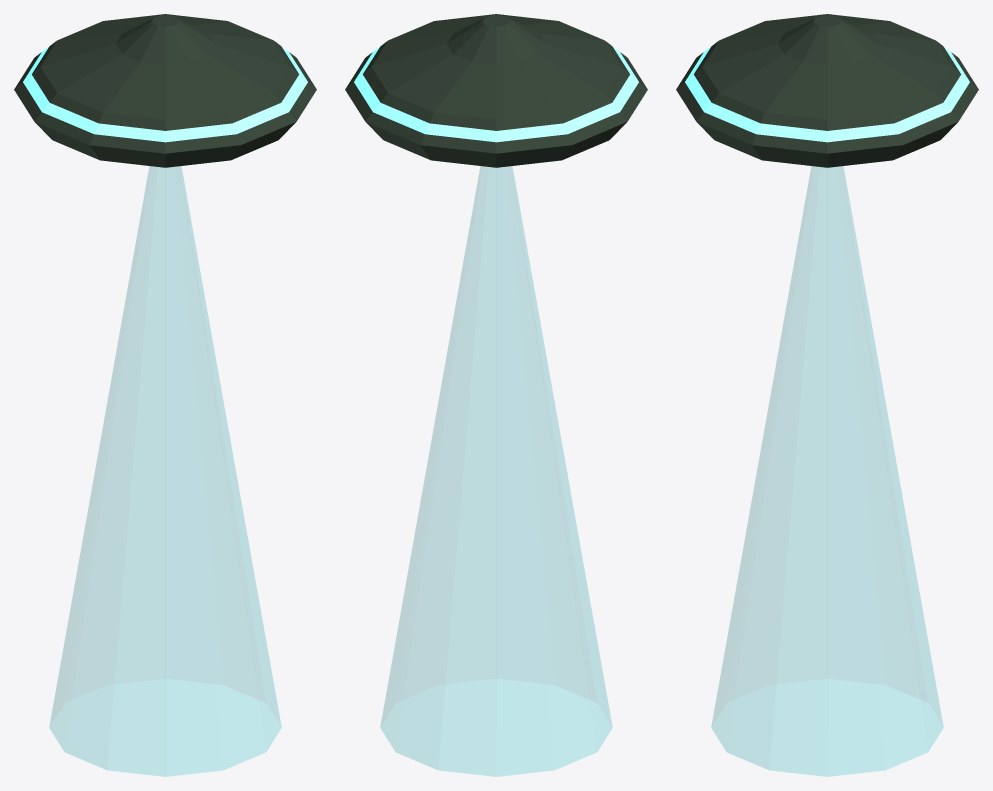
The model's file is ufo.glb.
3 views of the same model, side by side, from view 1: azimuth 30°, elevation 25°; view 2: azimuth 150°, elevation 25°; view 3: azimuth 270°, elevation 25° (orthographic).
Visible parts, largest first — view 1: Cube; view 2: Cube; view 3: Cube.
Part boxes in pixels (x1,y1,x2,y2): Cube: (14,14,316,776); Cube: (345,14,647,776); Cube: (676,14,978,776).
Size of the model in its own units: 8.83 by 22.72 by 8.83.
